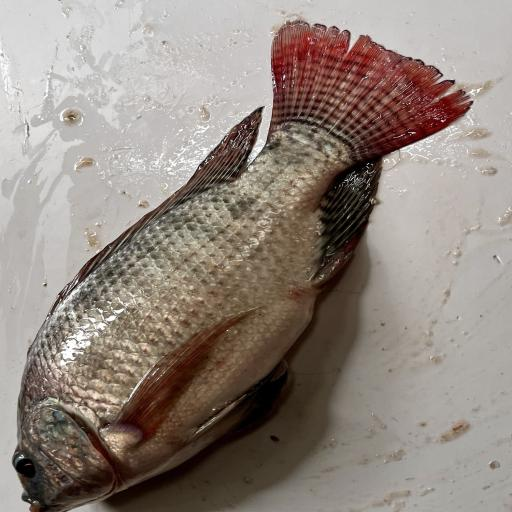Tilapia: (12, 19, 475, 512)
